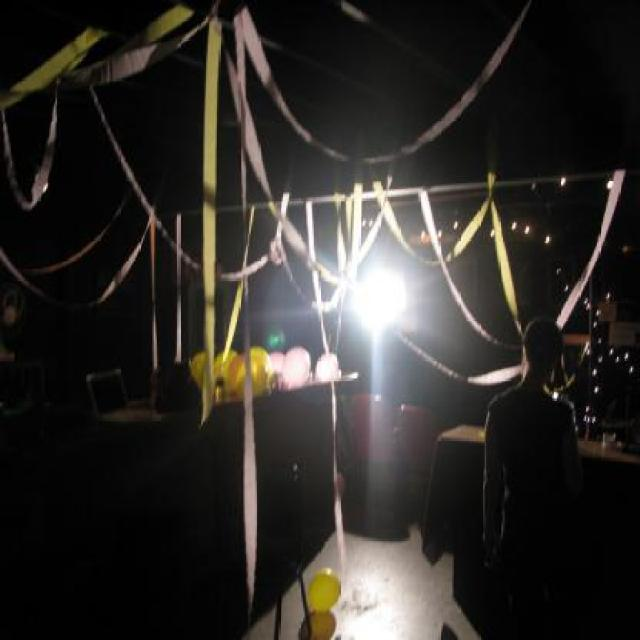Person: (468, 284, 586, 618)
